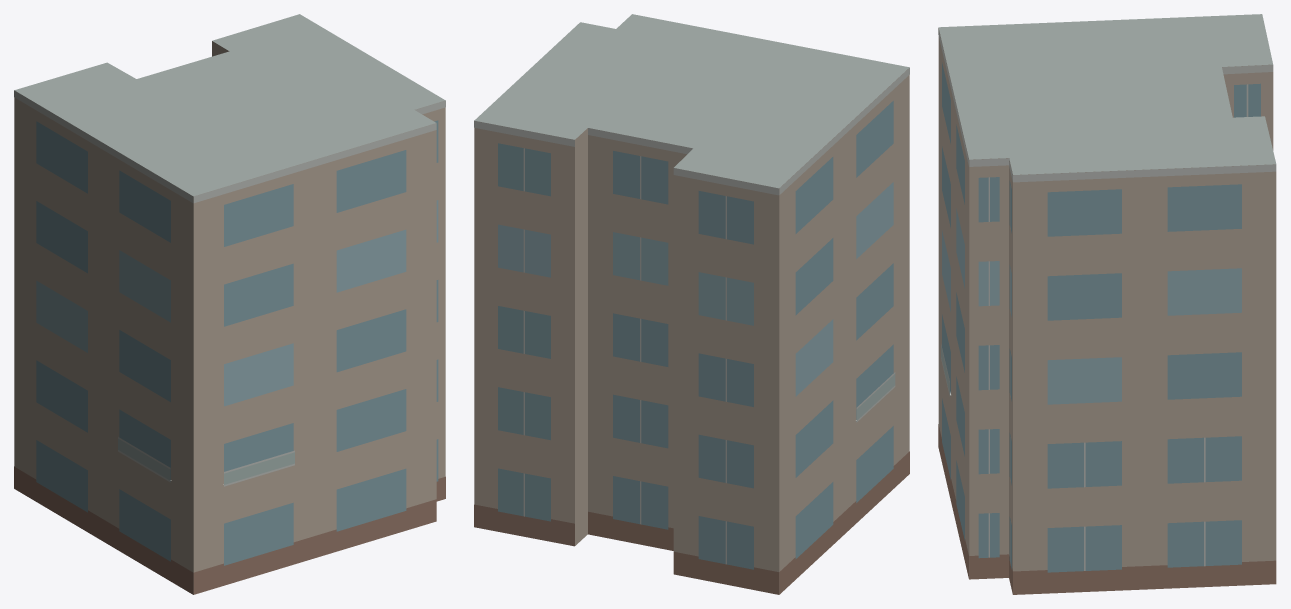
File: survey-upis-32655287.glb
3 renders of one model, left to right at view 1: azimuth 30°, elevation 25°; view 2: azimuth 150°, elevation 25°; view 3: azimuth 270°, elevation 25°, orthographic. The views are drawn at different scales.
Parts seen in each view (by area): view 1: survey-upis-32655287.tmp; view 2: survey-upis-32655287.tmp; view 3: survey-upis-32655287.tmp.
Boxes of the visible parts, bbox=[...] form: survey-upis-32655287.tmp: bbox=[14, 14, 445, 594]; survey-upis-32655287.tmp: bbox=[474, 14, 909, 594]; survey-upis-32655287.tmp: bbox=[938, 14, 1276, 594].
Bounding box in the file's own units: 11.45 × 13.9 × 10.15.
